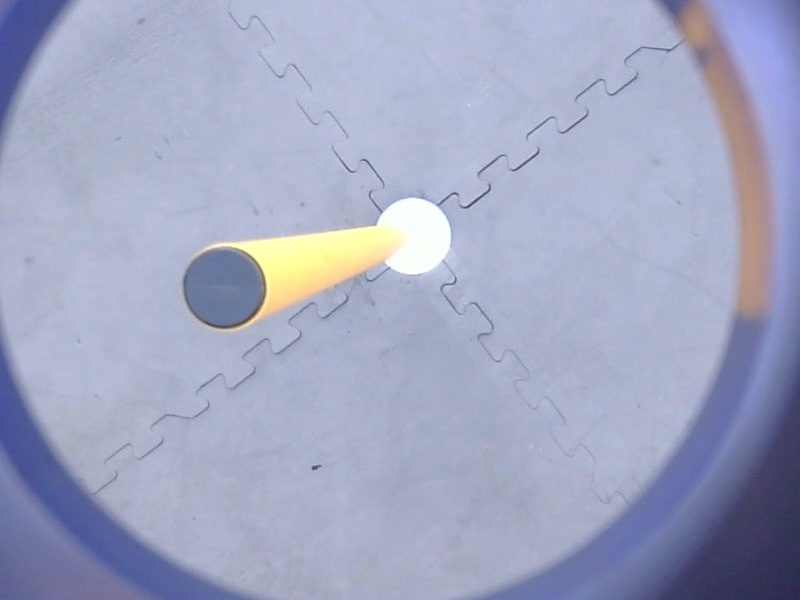tip: (175, 237, 273, 339)
